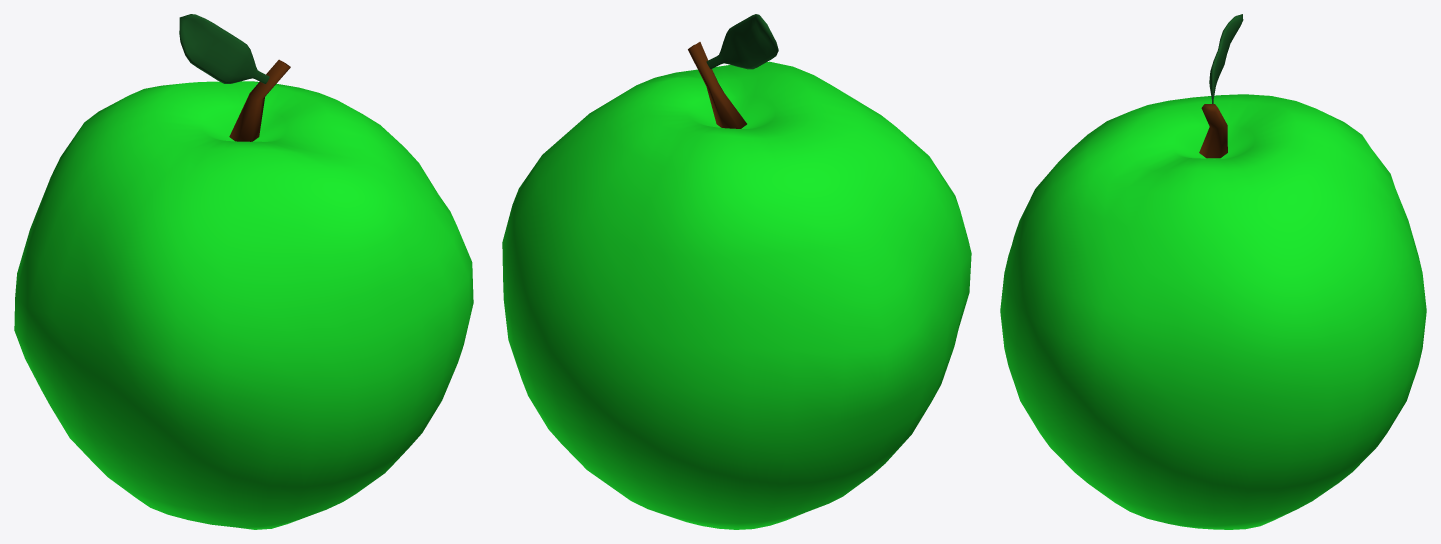
Rendered from Apple.fbx.
The picture shows the model from 3 angles, left to right: view 1: azimuth 30°, elevation 25°; view 2: azimuth 150°, elevation 25°; view 3: azimuth 270°, elevation 25°; orthographic projection. The views are drawn at different scales.
Parts seen in each view (by area): view 1: Apple; view 2: Apple; view 3: Apple.
Part boxes in pixels (box(x1,y1,x2,y2)): Apple: box(14, 14, 473, 529); Apple: box(502, 14, 971, 529); Apple: box(1000, 14, 1426, 529).
Size of the model in its own units: 344 by 405 by 338.
